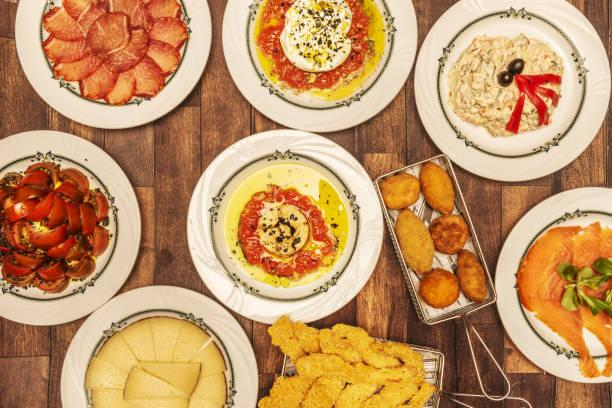Braised Crucian Carp: (185, 127, 385, 331), (409, 0, 608, 182), (0, 122, 144, 333), (220, 0, 418, 133), (15, 0, 210, 130), (495, 186, 612, 391), (61, 286, 255, 408)
